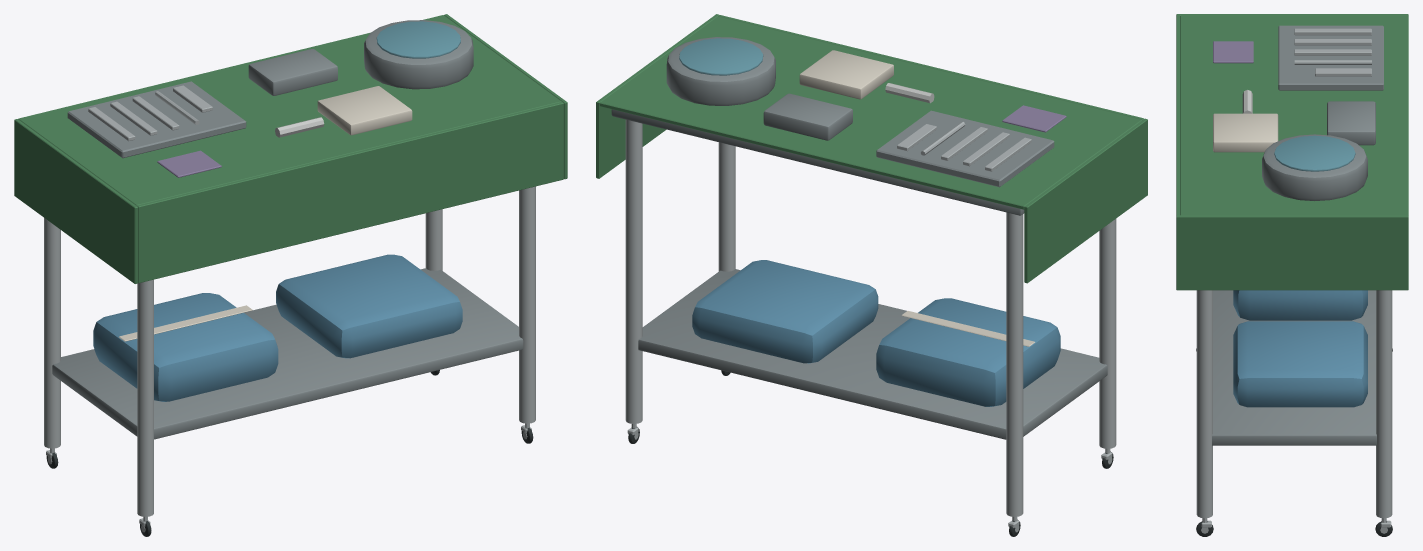
The model's file is instrument-table.glb.
3 renders of one model, left to right at view 1: azimuth 30°, elevation 25°; view 2: azimuth 150°, elevation 25°; view 3: azimuth 270°, elevation 25°, orthographic. The views are drawn at different scales.
Parts seen in each view (by area): view 1: instrument-table; view 2: instrument-table; view 3: instrument-table.
Boxes of the visible parts, x1=… form: instrument-table: x1=14, y1=14, x2=567, y2=536; instrument-table: x1=596, y1=14, x2=1147, y2=536; instrument-table: x1=1176, y1=14, x2=1408, y2=536.
Bounding box in the file's own units: 1.18 × 0.9755 × 0.57.
